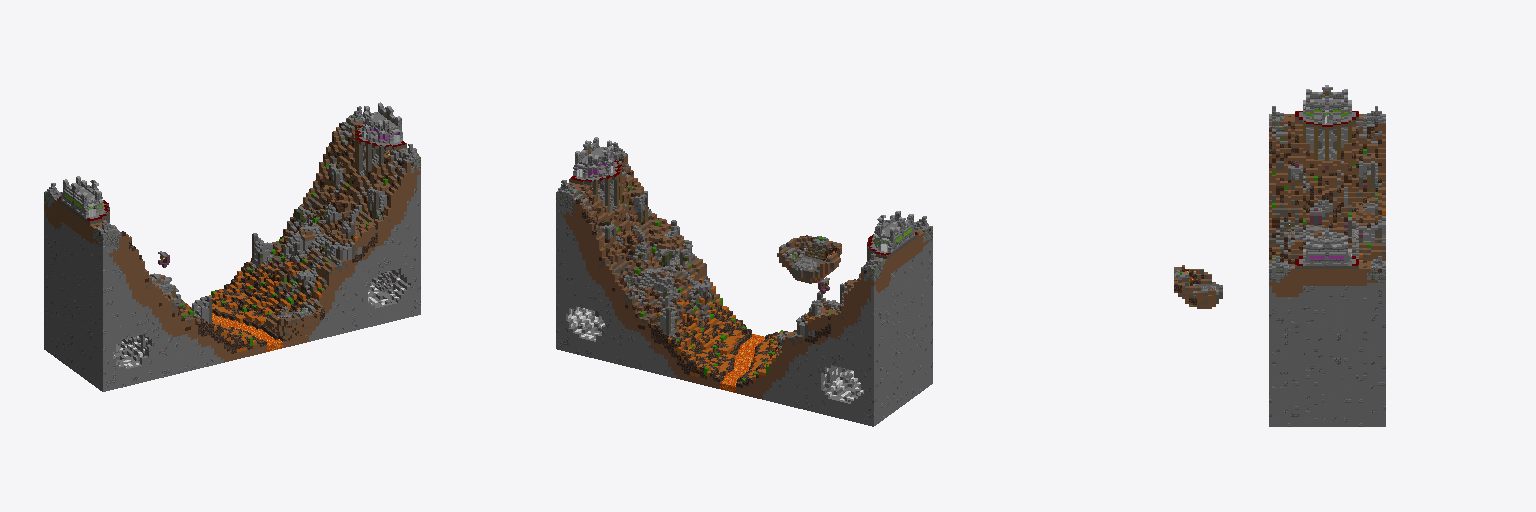
3 views of the same model, side by side, from view 1: azimuth 30°, elevation 25°; view 2: azimuth 150°, elevation 25°; view 3: azimuth 270°, elevation 25° (orthographic).
Size of the model in its own units: 97 by 54.5 by 56.
36 materials, 16 textured.